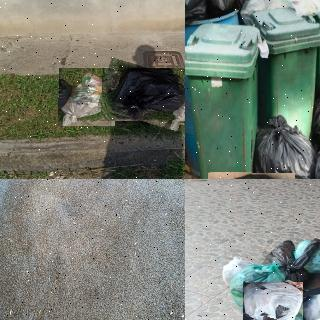Garbage: (99, 62, 185, 126), (252, 114, 317, 179), (59, 68, 115, 126), (232, 264, 291, 306), (242, 281, 303, 320), (294, 240, 320, 276), (221, 257, 255, 283), (302, 289, 320, 319)
